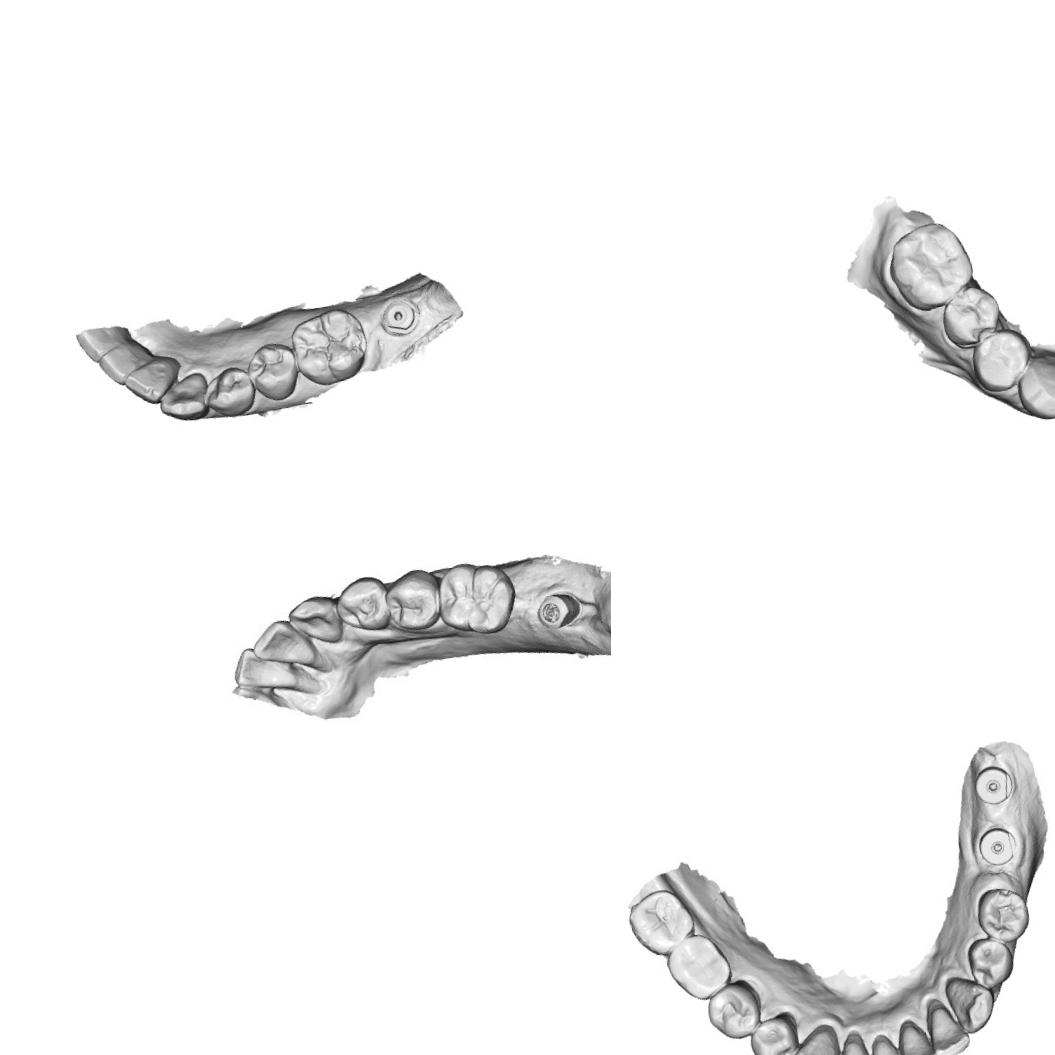canine: (941, 970, 1001, 1038), (284, 587, 346, 652), (1011, 349, 1055, 424), (156, 370, 212, 425), (784, 1024, 846, 1055)
implant: (531, 582, 585, 634), (970, 761, 1018, 810), (974, 824, 1020, 870), (378, 294, 423, 340)
incisor: (245, 614, 317, 676), (227, 639, 301, 699), (119, 352, 187, 408), (95, 337, 156, 389), (74, 322, 137, 368), (923, 1001, 974, 1055), (895, 1018, 941, 1055), (864, 1034, 912, 1055), (826, 1035, 876, 1055)
molar: (881, 214, 980, 317), (427, 552, 522, 643), (287, 302, 374, 392), (622, 884, 700, 962), (660, 928, 738, 1006)
premolar: (967, 324, 1037, 397), (380, 564, 446, 637), (699, 977, 766, 1046), (935, 276, 999, 348), (971, 880, 1034, 948), (332, 572, 393, 636), (243, 339, 302, 405), (198, 361, 258, 422), (963, 930, 1021, 992), (744, 1012, 803, 1055)
